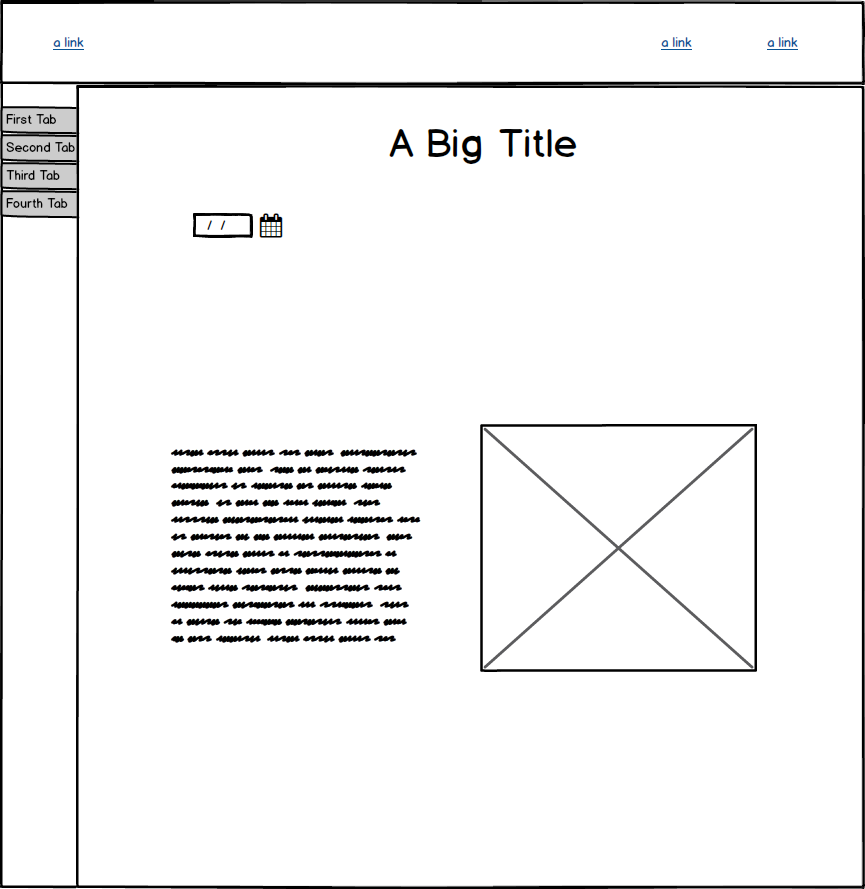date_picker: (180, 206, 301, 244)
h1: (386, 113, 583, 173)
image: (471, 416, 768, 677)
navlink: (653, 31, 701, 56), (763, 31, 805, 59), (53, 28, 87, 58)
p: (166, 444, 429, 652)
sidebar: (2, 98, 84, 225)
